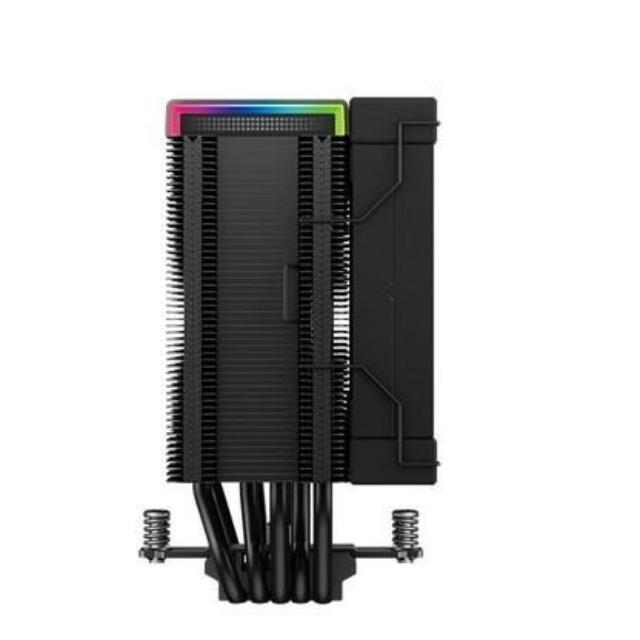CPU_Fan: (162, 98, 440, 608)
